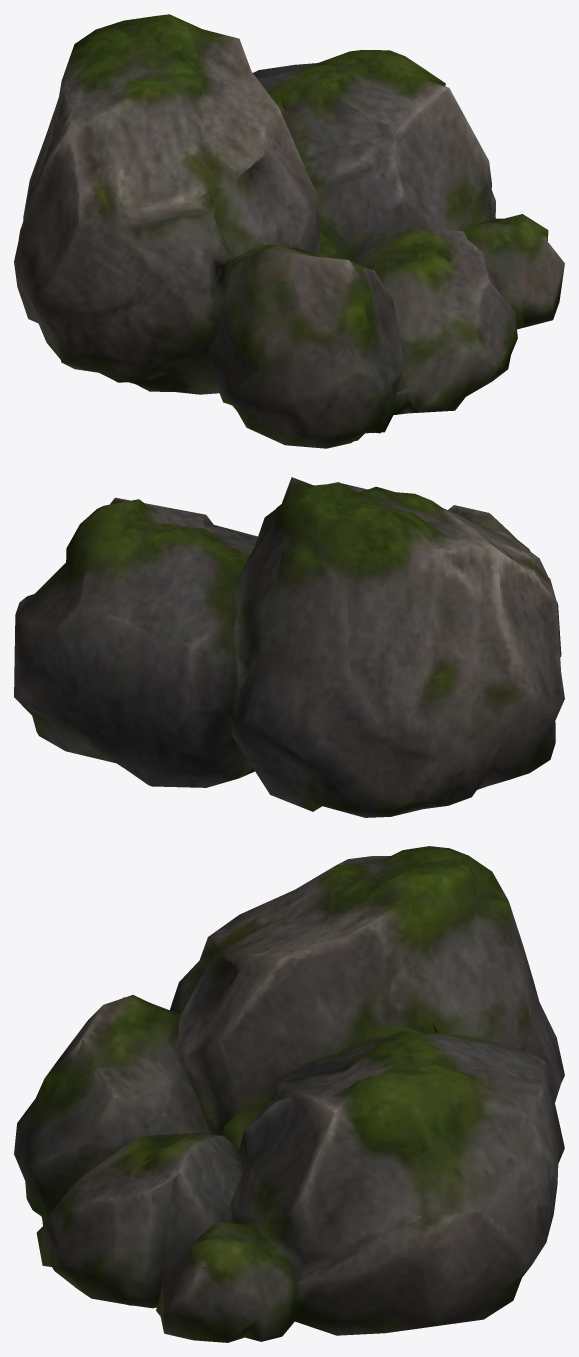
The model's file is rocks.glb.
The picture shows the model from 3 angles, top to bottom: view 1: azimuth 30°, elevation 25°; view 2: azimuth 150°, elevation 25°; view 3: azimuth 270°, elevation 25°; orthographic projection. The views are drawn at different scales.
Parts seen in each view (by area): view 1: rocks; view 2: rocks; view 3: rocks.
Part boxes in pixels (bbox=[...]): rocks: bbox=[14, 14, 564, 448]; rocks: bbox=[14, 477, 564, 817]; rocks: bbox=[14, 846, 564, 1342].
Bounding box in the file's own units: 3.61 × 2.21 × 3.2.
Materials: 1 (1 with a texture image).
